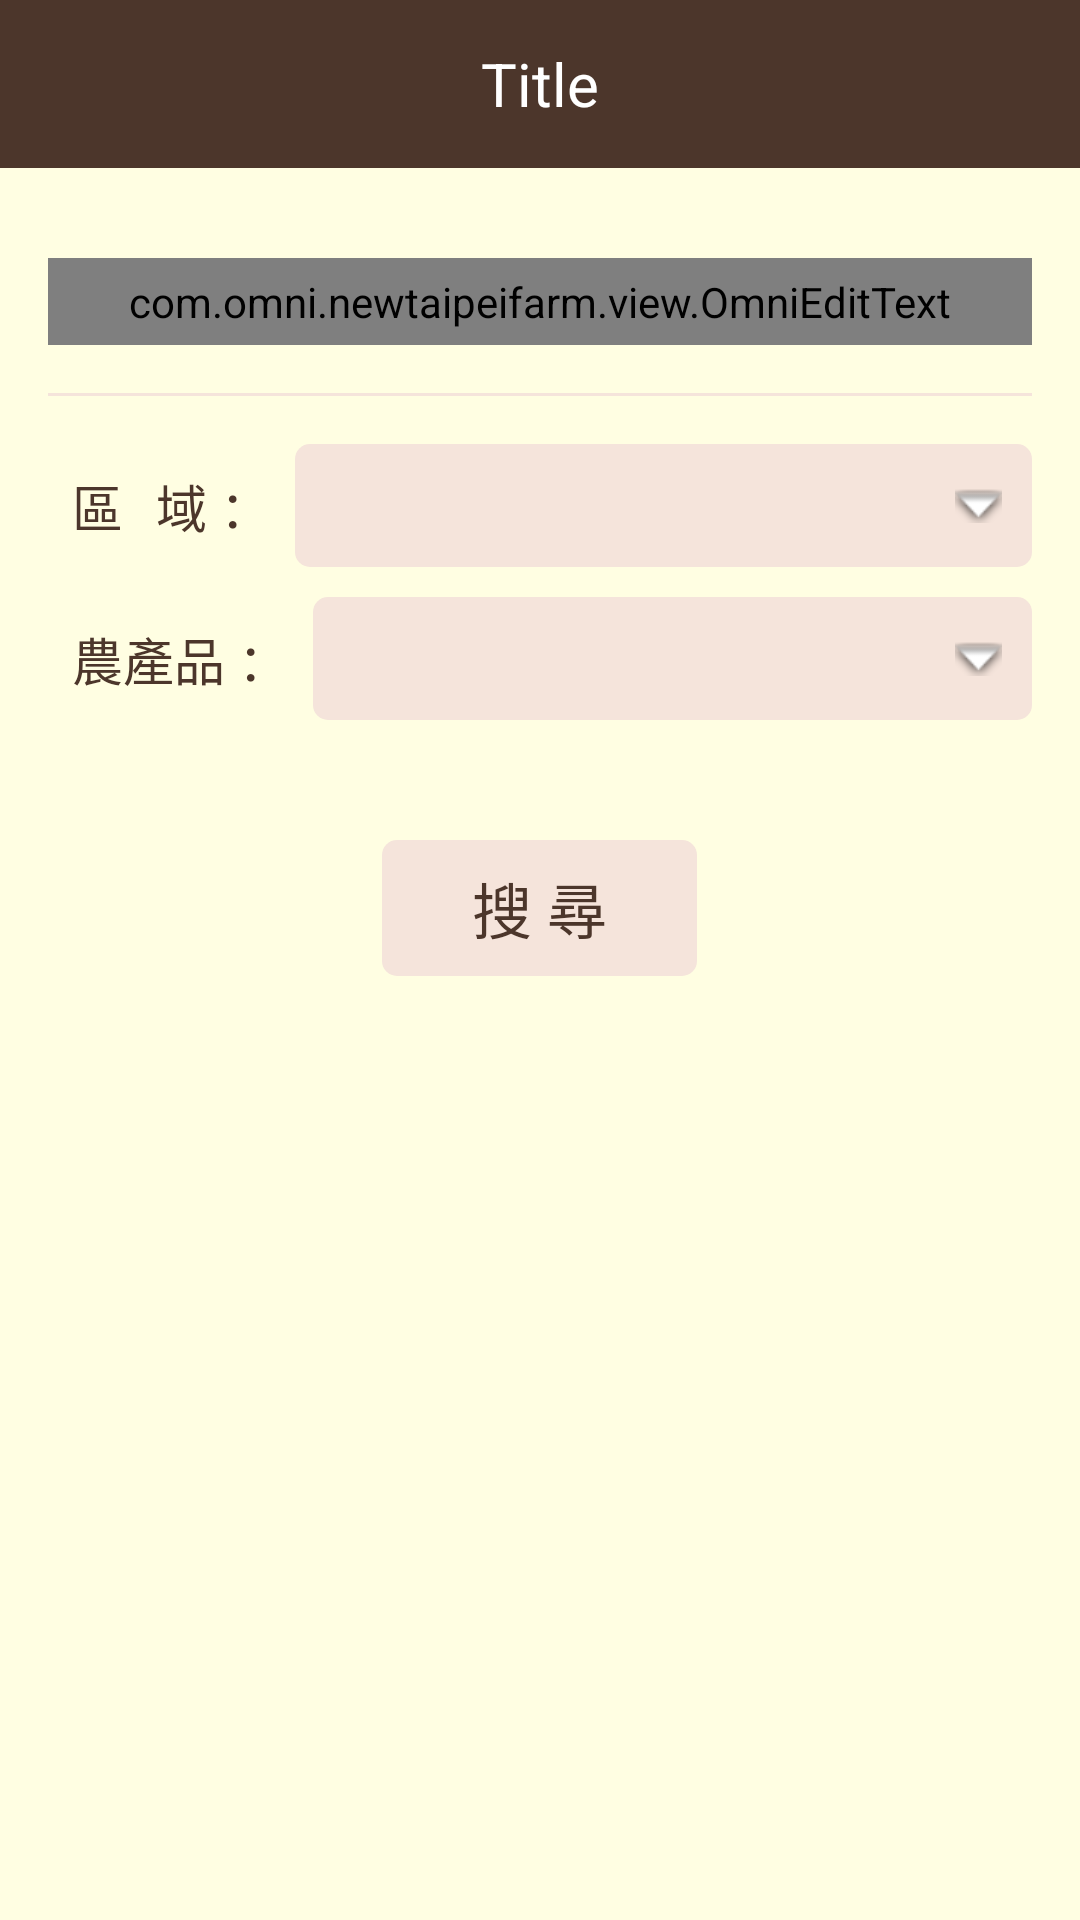

Screen size 1080 x 1920. Icon name, then its center in pixels as point (x, y):
arrow down float: point (978, 506), point (978, 659)
